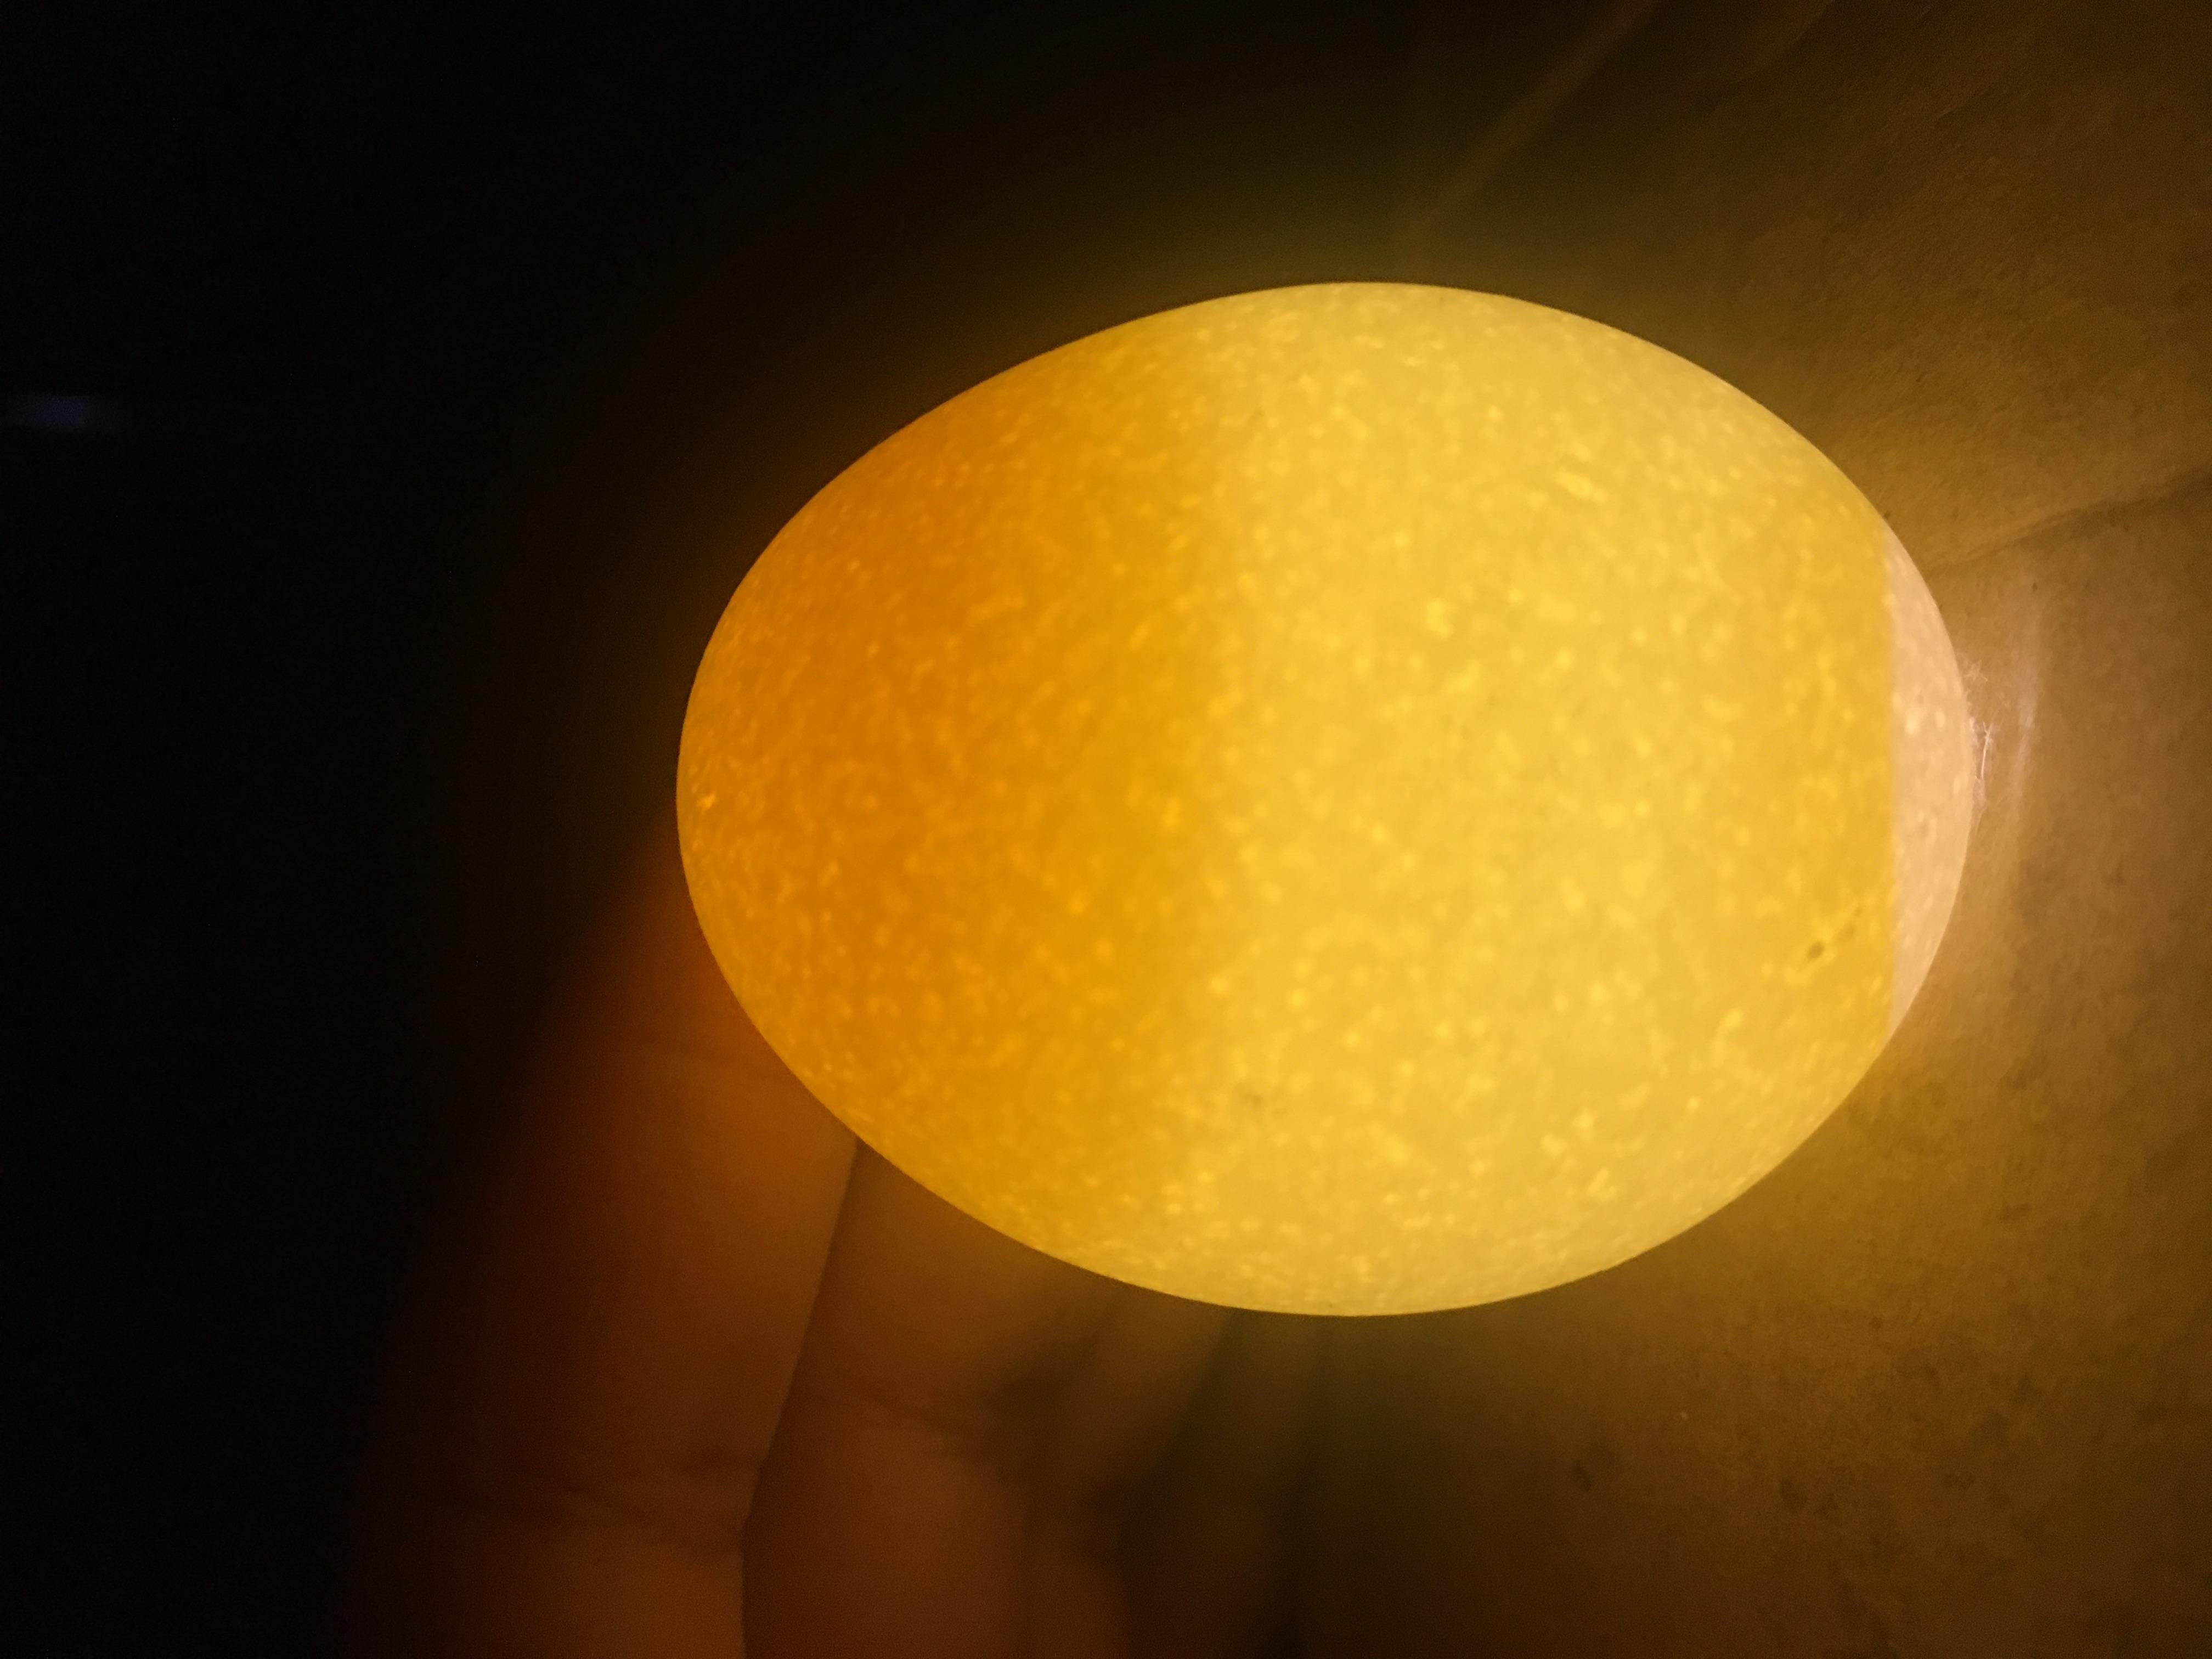AA - Premium: (442, 491, 1843, 1502)
